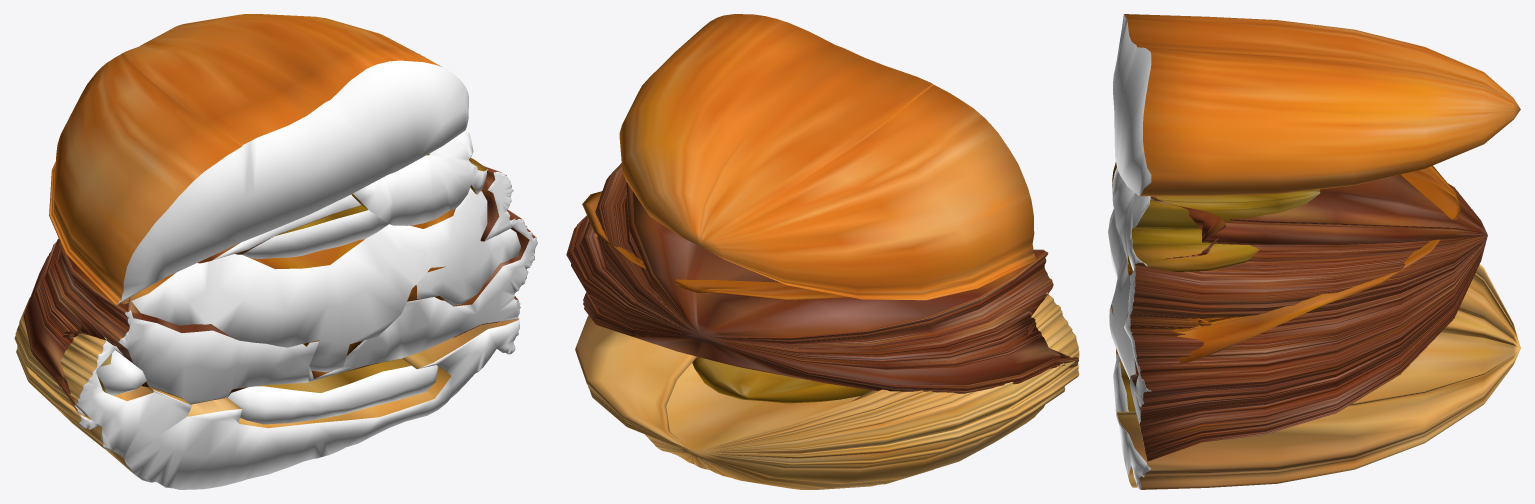
File: classic-smash-burger-triplo.glb
3 views of the same model, side by side, from view 1: azimuth 30°, elevation 25°; view 2: azimuth 150°, elevation 25°; view 3: azimuth 270°, elevation 25° (orthographic). The views are drawn at different scales.
Visible parts, largest first — view 1: ingredient_00_top_bun_solid.006, ingredient_02_melted_cheddar_solid, ingredient_03_triple_smash_solid, ingredient_05_bottom_bun_solid.002, ingredient_01_upper_pickles_solid, ingredient_04_lower_pickles_solid; view 2: ingredient_00_top_bun_solid.006, ingredient_03_triple_smash_solid, ingredient_05_bottom_bun_solid.002, ingredient_04_lower_pickles_solid, ingredient_02_melted_cheddar_solid; view 3: ingredient_03_triple_smash_solid, ingredient_00_top_bun_solid.006, ingredient_05_bottom_bun_solid.002, ingredient_01_upper_pickles_solid, ingredient_02_melted_cheddar_solid, ingredient_04_lower_pickles_solid.
Part boxes in pixels (box(x1,y1,x2,y2)): ingredient_00_top_bun_solid.006: box(49, 14, 468, 304); ingredient_02_melted_cheddar_solid: box(121, 187, 520, 372); ingredient_03_triple_smash_solid: box(23, 159, 537, 417); ingredient_05_bottom_bun_solid.002: box(14, 297, 519, 489); ingredient_01_upper_pickles_solid: box(242, 129, 487, 258); ingredient_04_lower_pickles_solid: box(96, 350, 438, 424); ingredient_00_top_bun_solid.006: box(619, 14, 1038, 300); ingredient_03_triple_smash_solid: box(566, 163, 1078, 393); ingredient_05_bottom_bun_solid.002: box(575, 292, 1079, 489); ingredient_04_lower_pickles_solid: box(692, 357, 870, 403); ingredient_02_melted_cheddar_solid: box(582, 191, 1034, 300); ingredient_03_triple_smash_solid: box(1124, 174, 1487, 461); ingredient_00_top_bun_solid.006: box(1113, 14, 1520, 196); ingredient_05_bottom_bun_solid.002: box(1116, 264, 1520, 489); ingredient_01_upper_pickles_solid: box(1112, 162, 1320, 272); ingredient_02_melted_cheddar_solid: box(1108, 165, 1461, 379); ingredient_04_lower_pickles_solid: box(1113, 353, 1135, 422).
Size of the model in its own units: 1.85 by 1.47 by 1.25.
